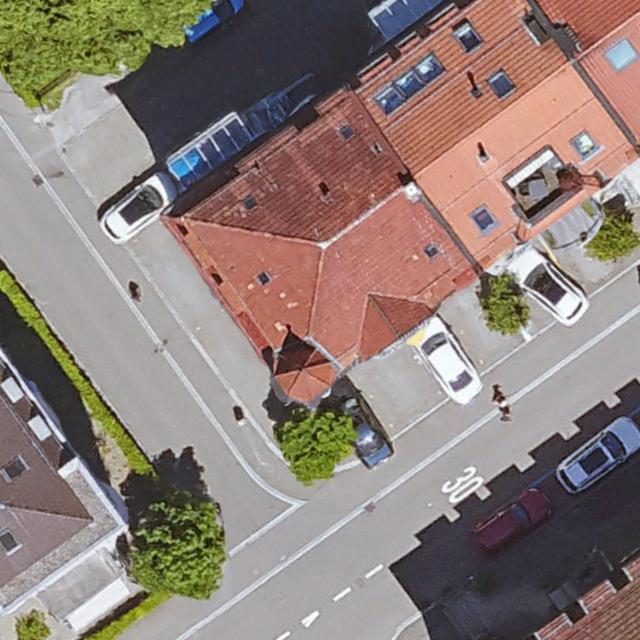tree: (0, 0, 201, 75), (131, 498, 225, 600), (279, 417, 350, 478), (477, 270, 527, 329), (591, 217, 636, 257)
